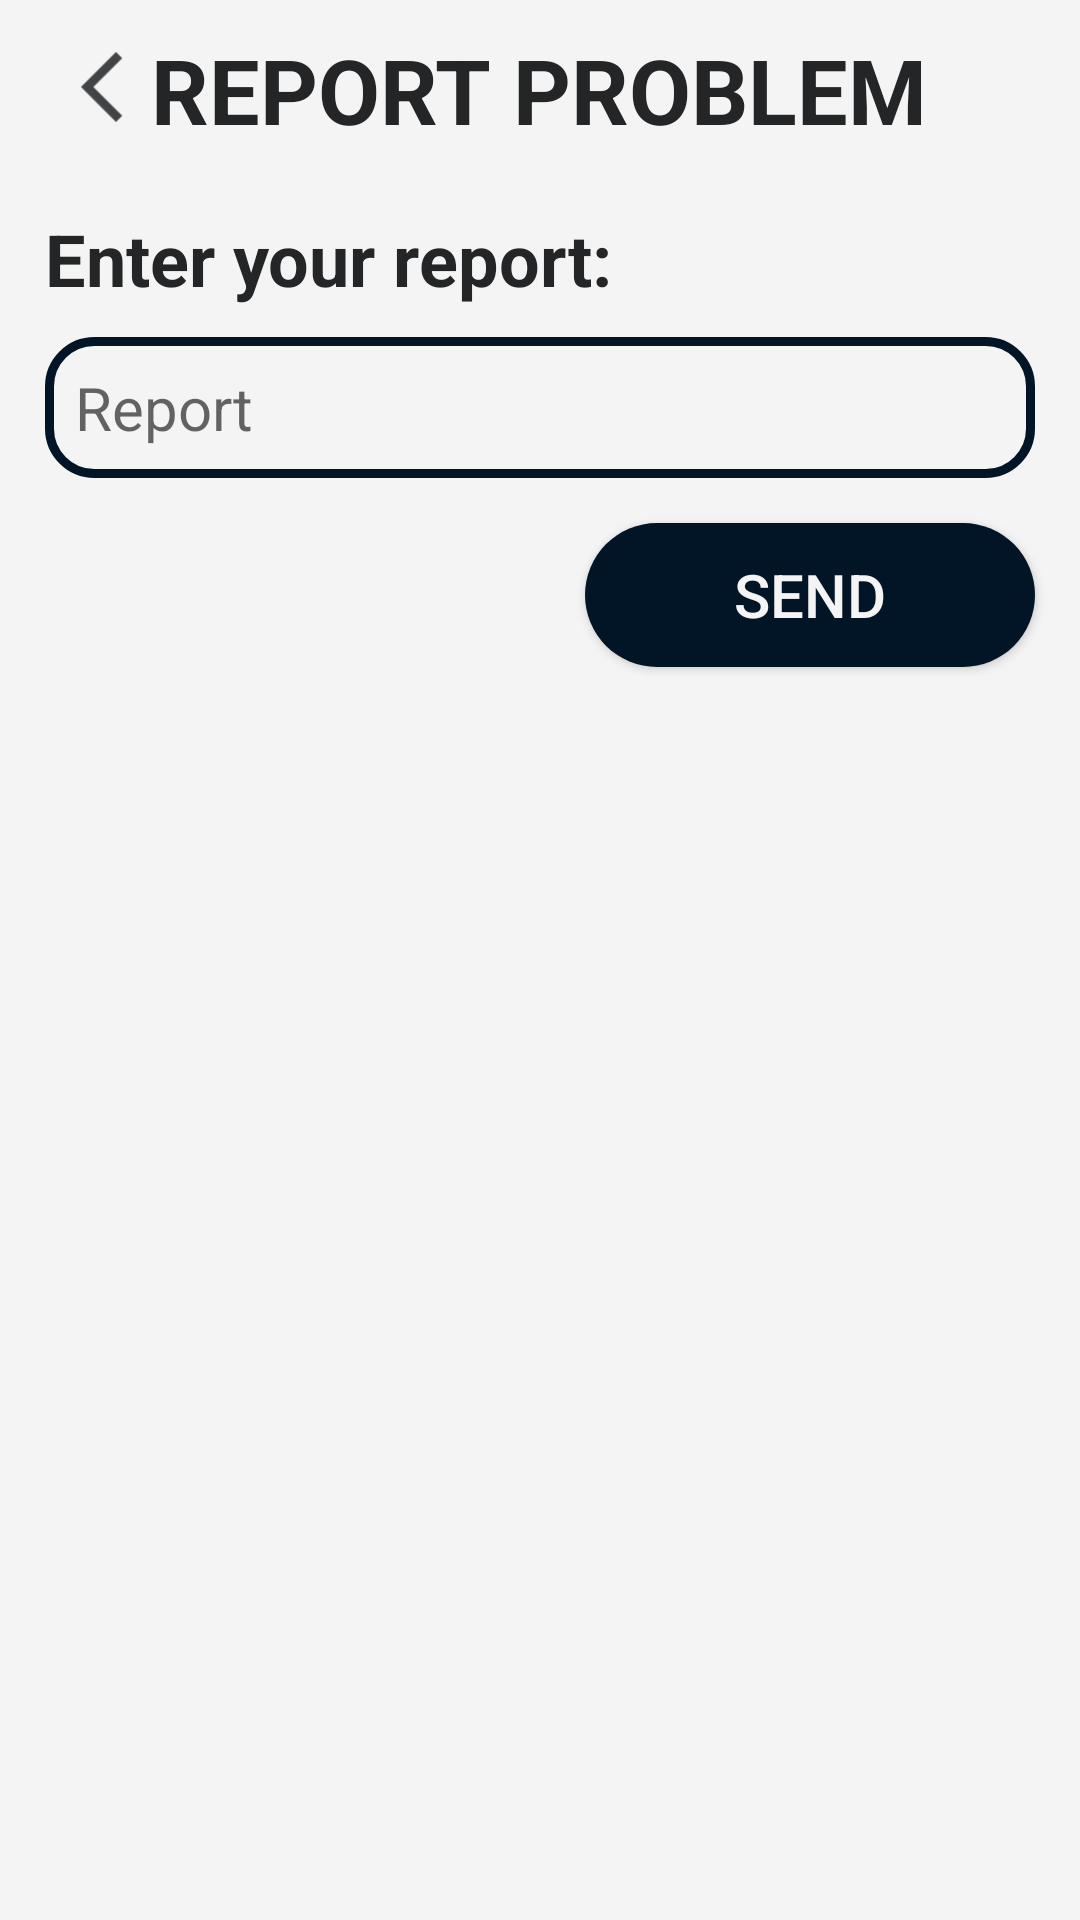

Icon bounding boxes for this 1080w x 1920h phone screenshot, format Rect(x1, y1, x2, y2):
back: Rect(81, 52, 180, 125)
